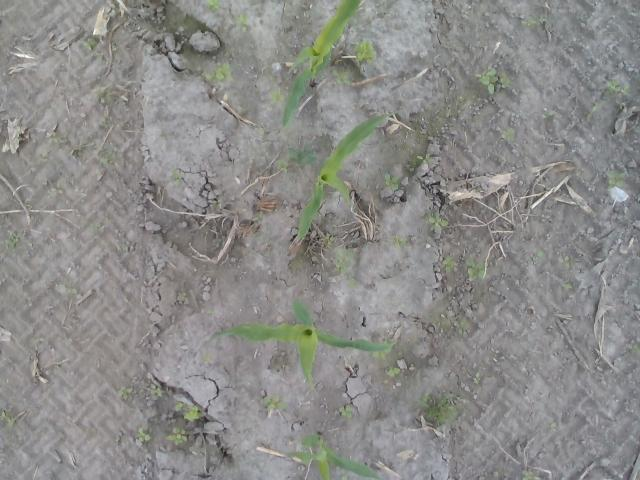Maize: (205, 298, 395, 384), (299, 114, 386, 238), (281, 0, 363, 128), (287, 431, 383, 480)
Weeds: (422, 392, 464, 426), (334, 243, 359, 290), (477, 64, 512, 96), (288, 142, 318, 168), (354, 38, 378, 66), (201, 62, 233, 82), (173, 400, 203, 421), (426, 210, 448, 234), (404, 154, 431, 172), (466, 258, 488, 280), (165, 426, 187, 447), (606, 79, 632, 96), (331, 66, 352, 86), (606, 168, 624, 191), (264, 395, 288, 410), (232, 14, 249, 33), (528, 247, 546, 264), (442, 255, 458, 274), (46, 184, 64, 200), (97, 88, 115, 104), (384, 174, 401, 190), (526, 14, 548, 26), (0, 408, 16, 424), (116, 386, 133, 400), (138, 426, 152, 442), (147, 385, 164, 398), (96, 154, 115, 165), (270, 91, 286, 104), (80, 37, 96, 50), (202, 349, 214, 366), (521, 470, 541, 480), (339, 404, 353, 418), (467, 372, 482, 385), (502, 128, 514, 144), (560, 278, 576, 290), (208, 0, 222, 13), (47, 132, 62, 144), (454, 319, 464, 337), (544, 110, 560, 121), (386, 366, 401, 377), (170, 172, 183, 184), (5, 238, 18, 250), (560, 254, 572, 267), (394, 239, 409, 249), (88, 223, 104, 232), (109, 2, 119, 16), (278, 160, 289, 172), (177, 290, 188, 302), (630, 340, 640, 353), (591, 102, 602, 112), (373, 350, 386, 358), (66, 288, 78, 295), (32, 336, 42, 344), (616, 104, 624, 112), (255, 212, 262, 221), (120, 245, 129, 252), (456, 96, 464, 103), (212, 204, 220, 208)
